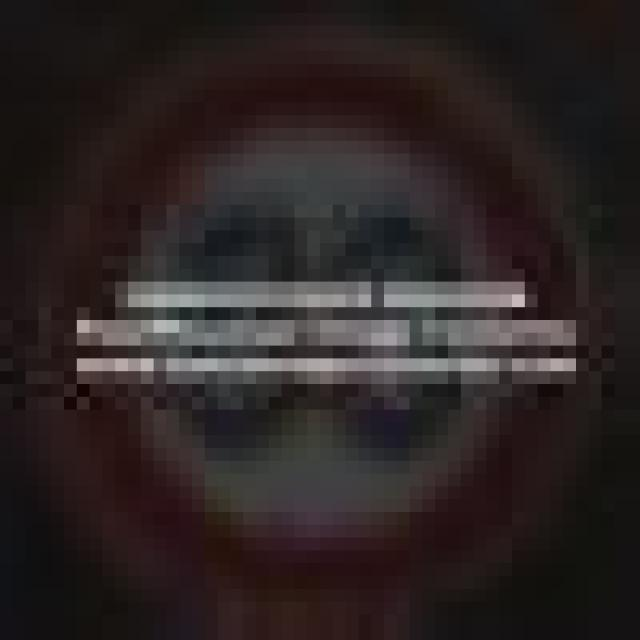SPEED_LIMIT_80: (38, 51, 589, 614)
